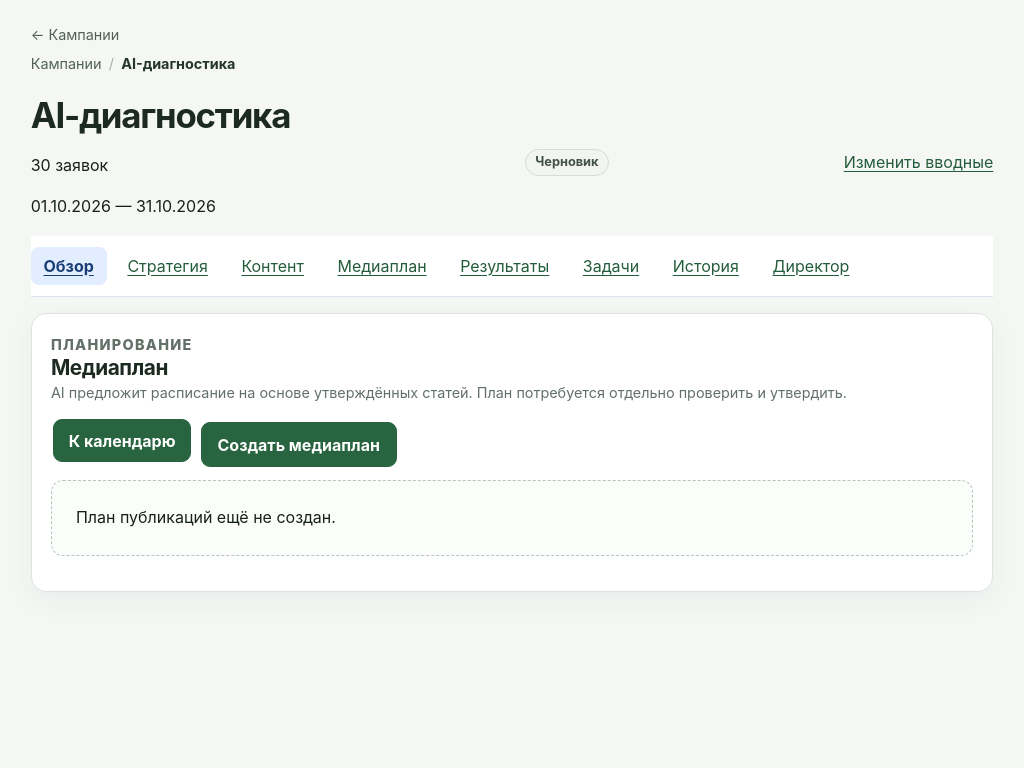
it: Campaigns UI › explains why media plan generation failed and links the next action
The width and height of the screenshot is (1024, 768).
Click the button "Создать медиаплан" at coordinates (299, 444), box [200,422,397,467]
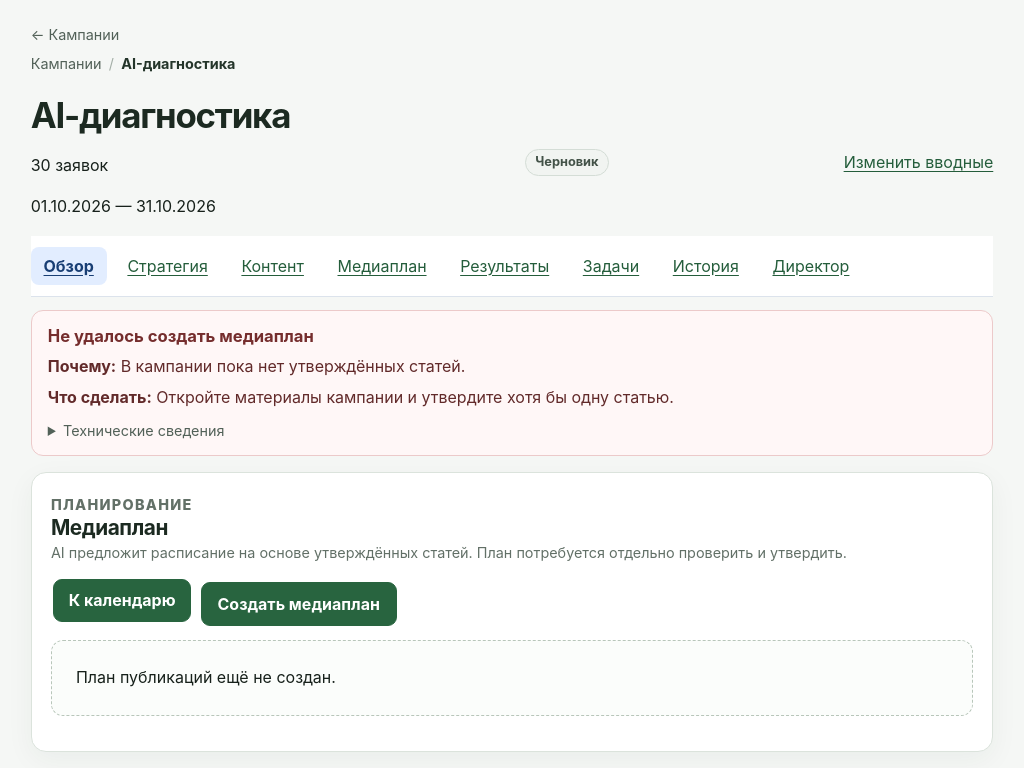
Expected: the text "В кампании пока нет утверждённых статей." is shown, [121,356,465,376]
Expected: the text "утвердите хотя бы одну статью" is shown, [156,387,674,407]
